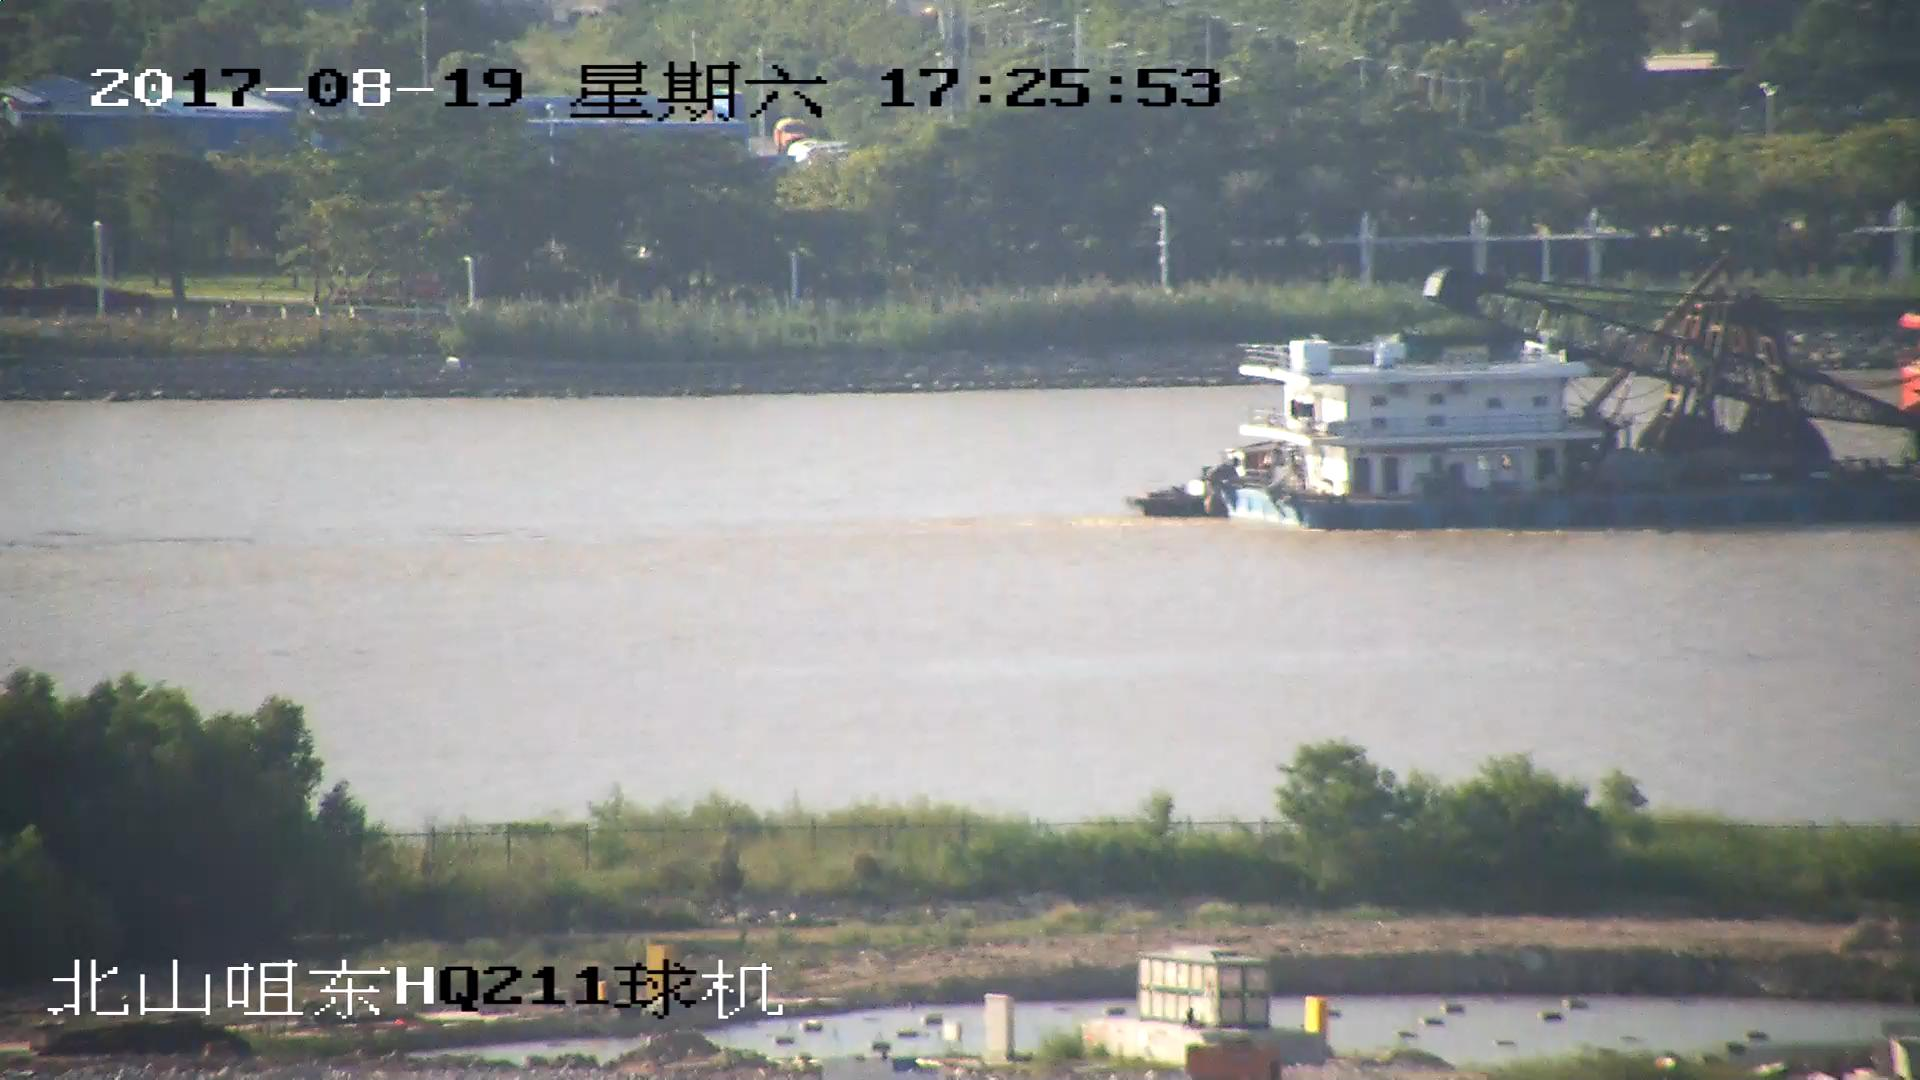fishing boat: (1144, 267, 1920, 531)
